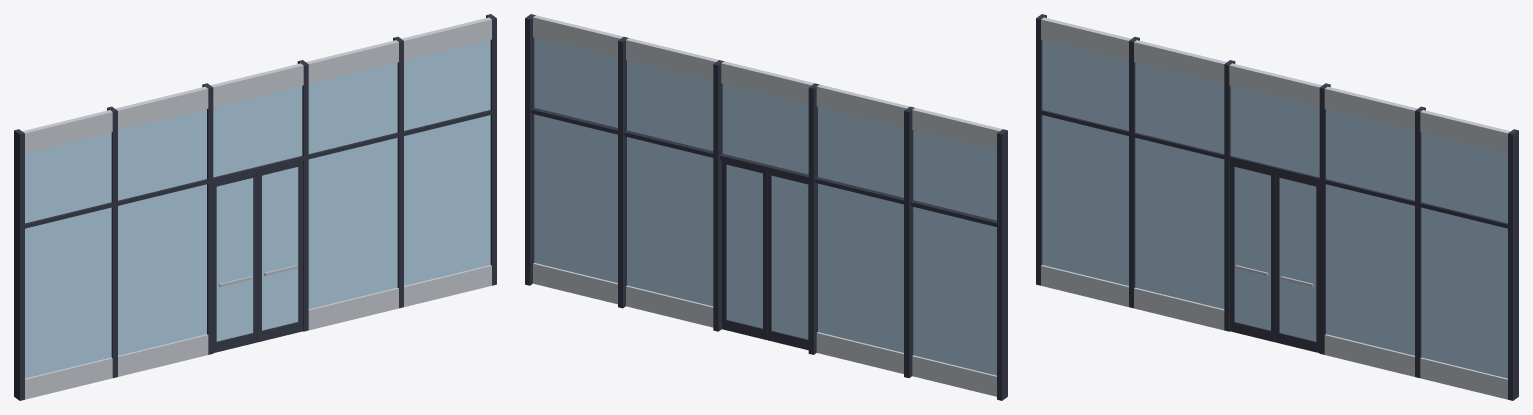
File: air-038.glb
3 views of the same model, side by side, from view 1: azimuth 30°, elevation 25°; view 2: azimuth 150°, elevation 25°; view 3: azimuth 330°, elevation 25° (orthographic).
Parts seen in each view (by area): view 1: window_glass, dark_steel, counter_panel; view 2: window_glass, dark_steel, counter_panel; view 3: window_glass, dark_steel, counter_panel.
Boxes of the visible parts, x1,y1,x2,y2 form: window_glass: [25, 40, 490, 378]; dark_steel: [14, 14, 496, 400]; counter_panel: [22, 17, 491, 399]; window_glass: [534, 37, 996, 375]; dark_steel: [525, 14, 1007, 400]; counter_panel: [533, 15, 1002, 396]; window_glass: [1042, 40, 1507, 378]; dark_steel: [1036, 14, 1518, 400]; counter_panel: [1041, 17, 1510, 399].
Bounding box in the file's own units: 7.5 × 4 × 0.175.
